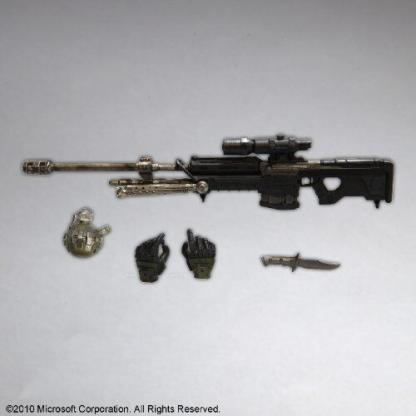Grenade: (62, 206, 112, 259)
Gun: (22, 132, 395, 211)
Knife: (260, 250, 342, 276)
